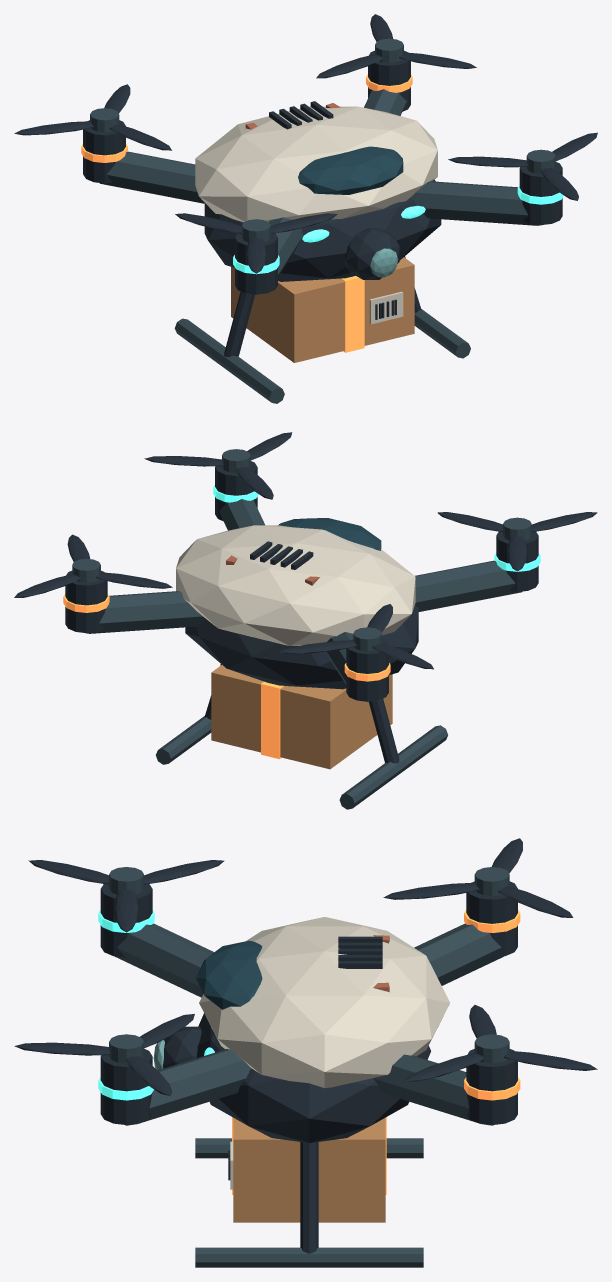
The model's file is CourierQuad.glb.
The picture shows the model from 3 angles, top to bottom: view 1: azimuth 30°, elevation 25°; view 2: azimuth 150°, elevation 25°; view 3: azimuth 270°, elevation 25°; orthographic projection. The views are drawn at different scales.
Parts seen in each view (by area): view 1: Airframe_porcelain, Airframe_graphite, Airframe_trim, Airframe_paper, Airframe_darkglass, Airframe_amber, Rotor_1_graphite, Rotor_2_graphite, Rotor_3_graphite, Rotor_4_graphite, Airframe_aqua, Airframe_glasslight (+4 smaller); view 2: Airframe_porcelain, Airframe_graphite, Airframe_trim, Airframe_paper, Airframe_amber, Rotor_1_graphite, Rotor_2_graphite, Rotor_3_graphite, Rotor_4_graphite, Airframe_darkglass, Airframe_aqua, Rotor_3_trim (+3 smaller); view 3: Airframe_porcelain, Airframe_graphite, Airframe_trim, Airframe_paper, Airframe_darkglass, Rotor_1_graphite, Rotor_2_graphite, Rotor_3_graphite, Rotor_4_graphite, Airframe_amber, Airframe_aqua, Rotor_4_trim (+3 smaller).
Part boxes in pixels (bbox=[...]): Airframe_porcelain: bbox=[195, 106, 437, 324]; Airframe_graphite: bbox=[83, 50, 562, 356]; Airframe_trim: bbox=[99, 89, 541, 403]; Airframe_paper: bbox=[231, 257, 414, 362]; Airframe_darkglass: bbox=[298, 146, 403, 194]; Airframe_amber: bbox=[81, 74, 412, 352]; Rotor_1_graphite: bbox=[175, 213, 337, 273]; Rotor_2_graphite: bbox=[448, 132, 597, 200]; Rotor_3_graphite: bbox=[14, 84, 171, 150]; Rotor_4_graphite: bbox=[316, 14, 476, 78]; Airframe_aqua: bbox=[233, 185, 563, 274]; Airframe_glasslight: bbox=[370, 248, 398, 277]; Airframe_porcelain: bbox=[176, 525, 415, 645]; Airframe_graphite: bbox=[65, 461, 538, 763]; Airframe_trim: bbox=[85, 499, 521, 809]; Airframe_paper: bbox=[211, 665, 392, 769]; Airframe_amber: bbox=[63, 594, 390, 759]; Rotor_1_graphite: bbox=[437, 512, 597, 571]; Rotor_2_graphite: bbox=[144, 432, 292, 499]; Rotor_3_graphite: bbox=[278, 604, 433, 669]; Rotor_4_graphite: bbox=[14, 534, 172, 597]; Airframe_darkglass: bbox=[278, 518, 381, 550]; Airframe_aqua: bbox=[213, 484, 540, 571]; Rotor_3_trim: bbox=[353, 627, 381, 651]; Airframe_porcelain: bbox=[199, 917, 449, 1189]; Airframe_graphite: bbox=[100, 881, 517, 1253]; Airframe_trim: bbox=[115, 923, 503, 1267]; Airframe_paper: bbox=[233, 1117, 385, 1222]; Airframe_darkglass: bbox=[196, 940, 262, 1009]; Rotor_1_graphite: bbox=[28, 860, 224, 932]; Rotor_2_graphite: bbox=[14, 1014, 194, 1096]; Rotor_3_graphite: bbox=[383, 838, 573, 917]; Rotor_4_graphite: bbox=[404, 1005, 597, 1081]; Airframe_amber: bbox=[232, 909, 520, 1194]; Airframe_aqua: bbox=[98, 910, 214, 1100]; Rotor_4_trim: bbox=[474, 1034, 509, 1063].
Bounding box in the file's own units: 0.8017 × 0.38 × 0.7667.
